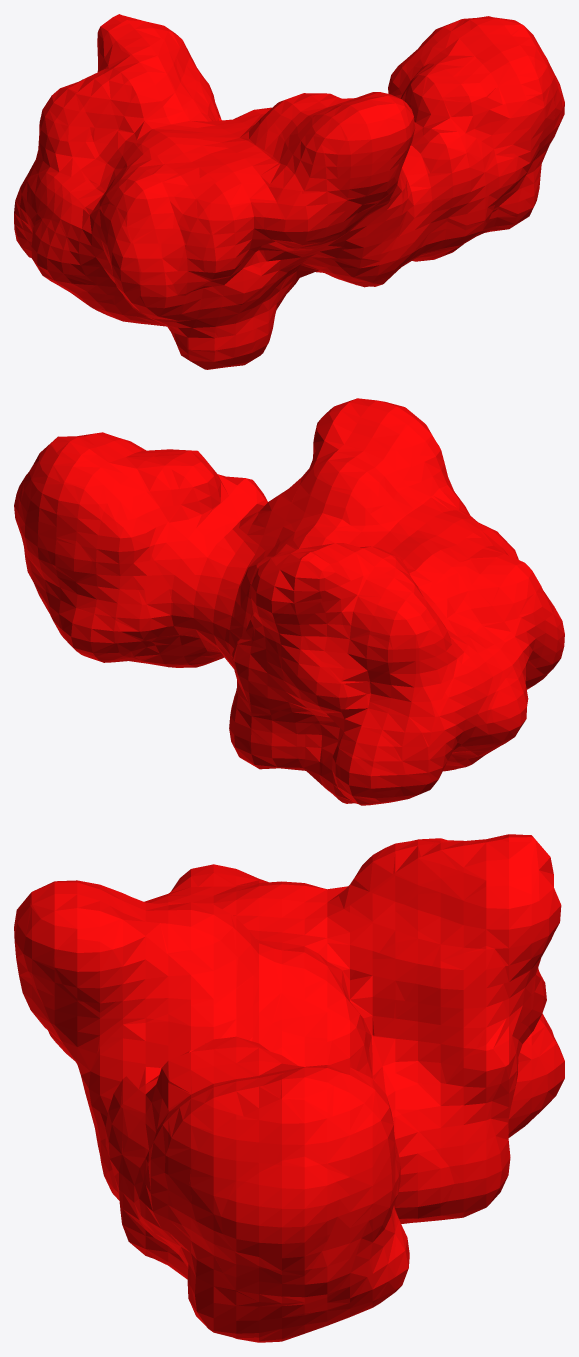
File: tyrS_coarse.dae
The picture shows the model from 3 angles, top to bottom: view 1: azimuth 30°, elevation 25°; view 2: azimuth 150°, elevation 25°; view 3: azimuth 270°, elevation 25°; orthographic projection. The views are drawn at different scales.
Parts seen in each view (by area): view 1: tyrS; view 2: tyrS; view 3: tyrS.
Part boxes in pixels (x1=…): tyrS: x1=14, y1=14, x2=564, y2=369; tyrS: x1=14, y1=398, x2=564, y2=805; tyrS: x1=14, y1=834, x2=564, y2=1342.
Size of the model in its own units: 90.32 by 46.93 by 59.92.
